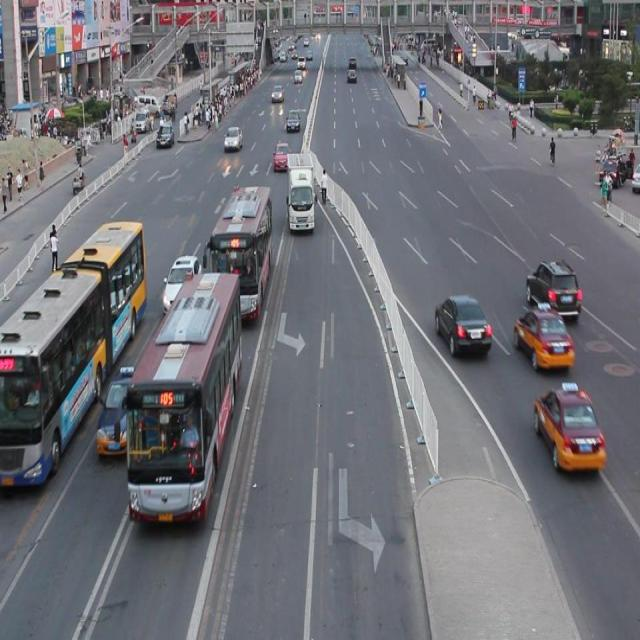bus: (285, 150, 315, 229)
car: (531, 379, 605, 471), (96, 366, 145, 455), (512, 303, 571, 369), (524, 257, 580, 321), (435, 292, 491, 354), (162, 256, 202, 313), (272, 141, 290, 168), (223, 125, 242, 150)
van: (0, 221, 146, 482), (124, 271, 240, 524), (203, 184, 272, 316)
